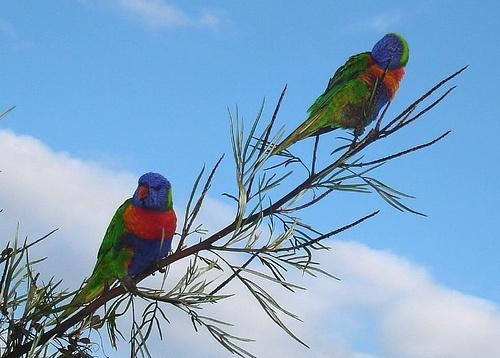bird: (45, 172, 178, 330), (259, 33, 410, 166)
